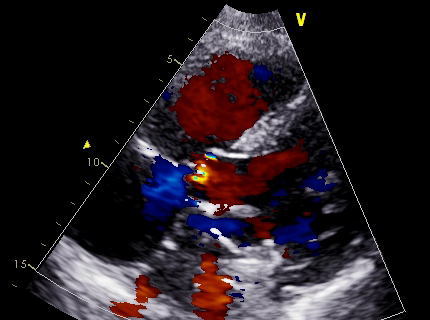TR: (145, 138, 216, 216)
